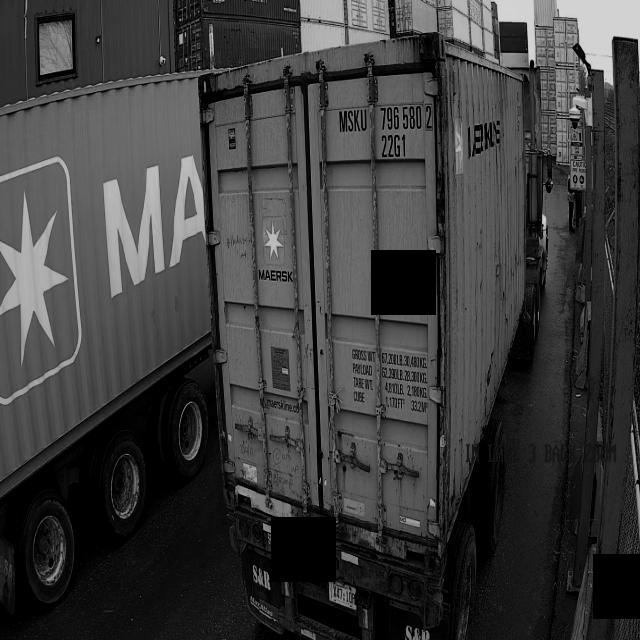container_company_logo: (257, 216, 291, 290)
container_number: (337, 106, 435, 162)
license_plate: (325, 581, 360, 611)
other_container_info: (349, 341, 428, 417)
truck_with_container: (200, 33, 552, 640), (0, 73, 211, 611)
